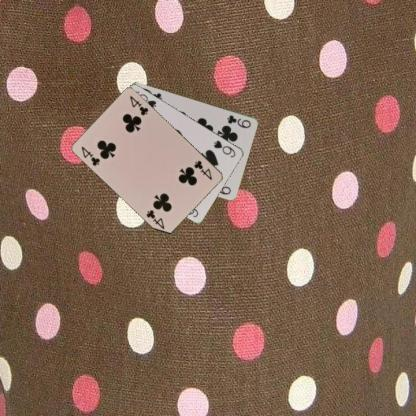4c: (191, 158, 214, 181), (79, 144, 102, 167)
6s: (211, 137, 237, 159)
9c: (225, 112, 252, 130)
